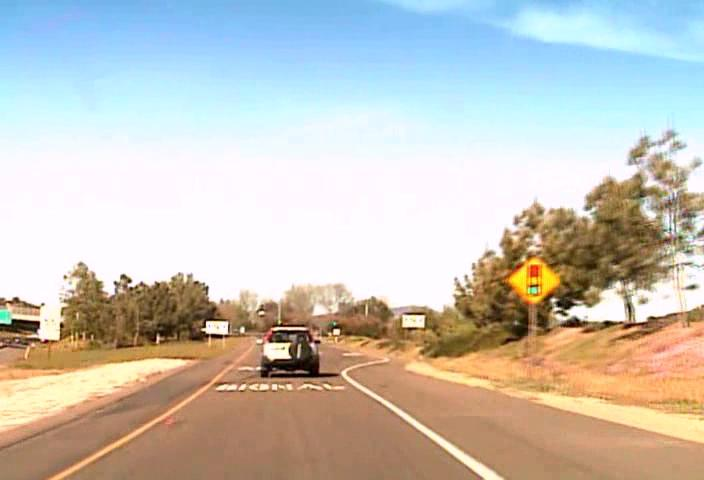signalAhead: (504, 256, 560, 304)
